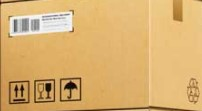stock: (1, 1, 202, 110)
